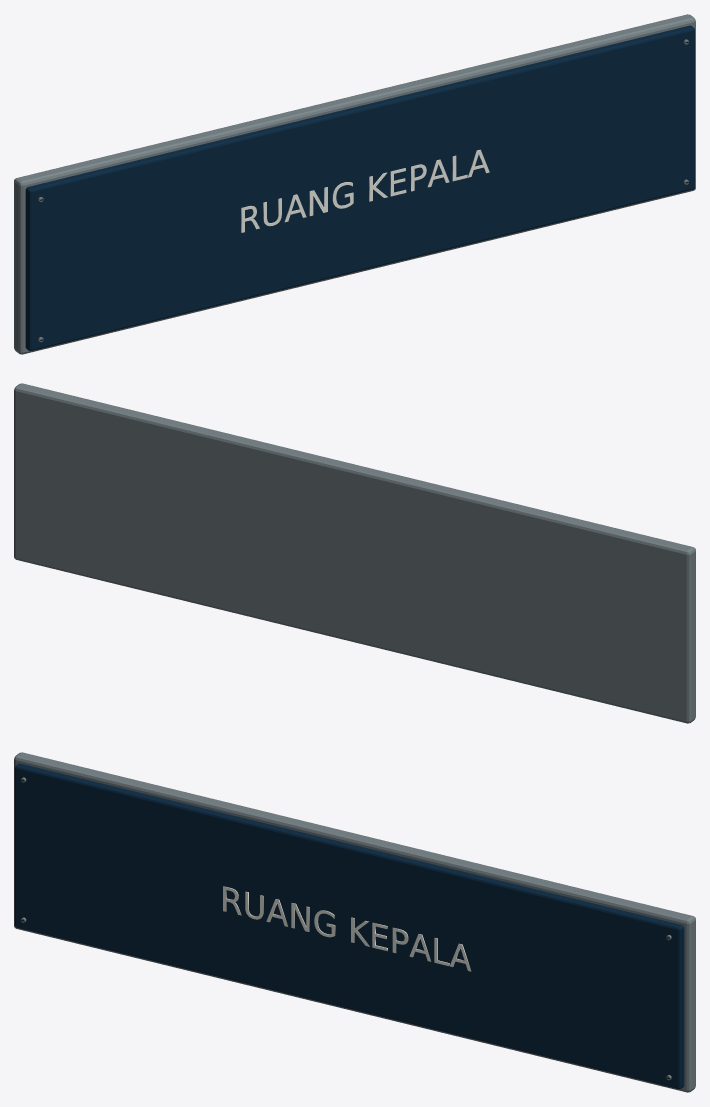
The model's file is OAA_Papan_Ruang_Ruang_Kepala.fbx.
The picture shows the model from 3 angles, top to bottom: view 1: azimuth 30°, elevation 25°; view 2: azimuth 150°, elevation 25°; view 3: azimuth 330°, elevation 25°; orthographic projection.
Visible parts, largest first — view 1: Body; view 2: Body; view 3: Body.
Part boxes in pixels (left/top/right/bottom): Body: left=14, top=14, right=695, bottom=354; Body: left=14, top=383, right=695, bottom=723; Body: left=14, top=752, right=695, bottom=1092.
Bounding box in the file's own units: 0.9 × 0.22 × 0.0312.
